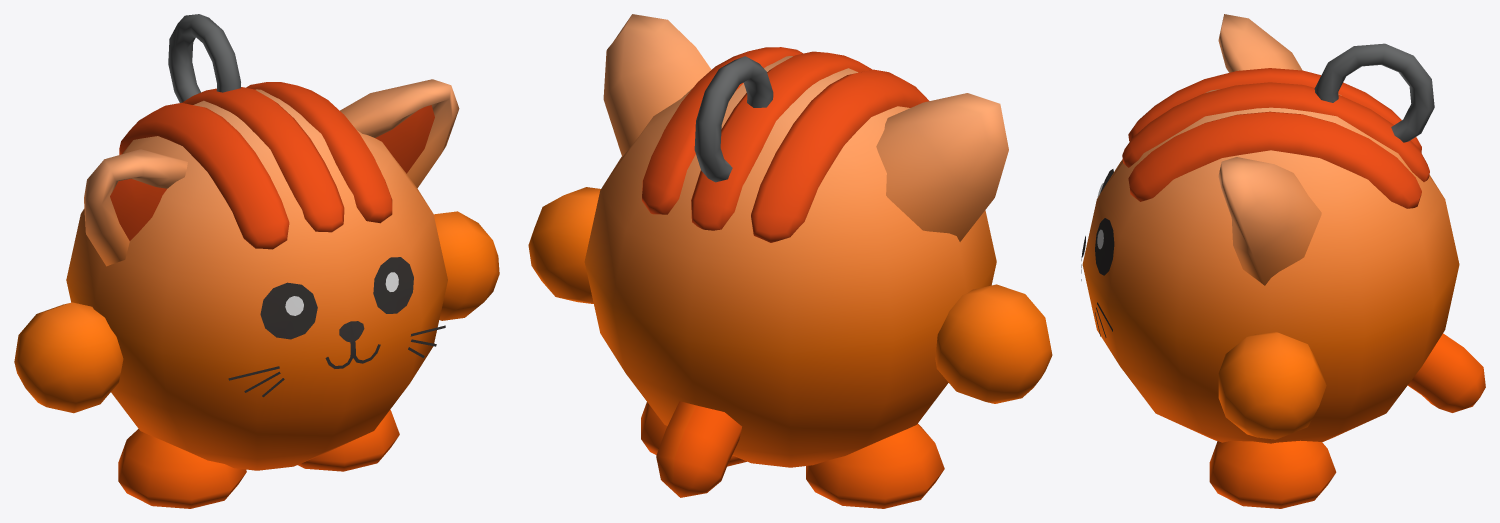
The model's file is Charm_14.fbx.
3 renders of one model, left to right at view 1: azimuth 30°, elevation 25°; view 2: azimuth 150°, elevation 25°; view 3: azimuth 270°, elevation 25°, orthographic. The views are drawn at different scales.
Visible parts, largest first — view 1: Charm_14; view 2: Charm_14; view 3: Charm_14.
Boxes of the visible parts, x1=… form: Charm_14: x1=14, y1=14, x2=499, y2=508; Charm_14: x1=528, y1=14, x2=1052, y2=508; Charm_14: x1=1081, y1=14, x2=1485, y2=508.
Size of the model in its own units: 5.55 by 4.65 by 4.19.
